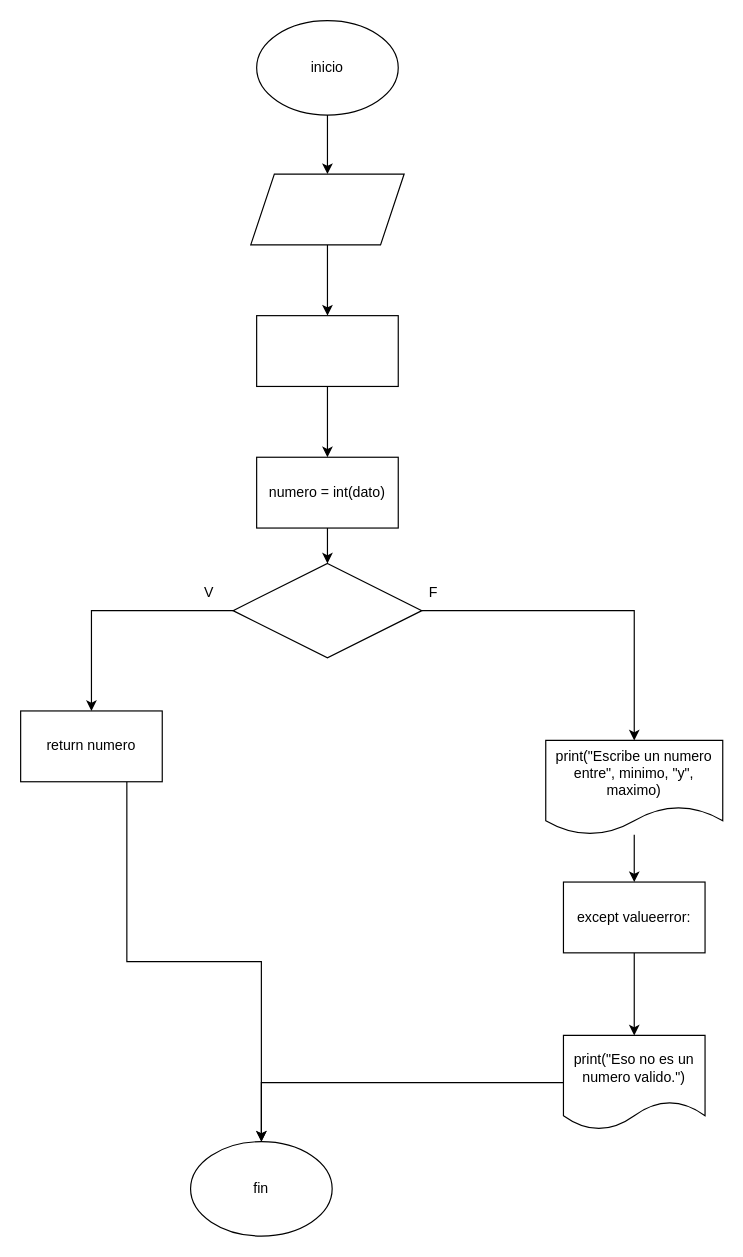
The diagram is 743 pixels wide and 1257 high, and some of its shapes have lost their labels. Here are the shapes that lost their labels. From the top down, the centre of each, then its label:
At point 327,209: "pedir_numero(texto, minimo, maximo)".
At point 326,350: "dato = input(texto)".
At point 327,610: "¿numero >= minimo y numero <= maximo?".
